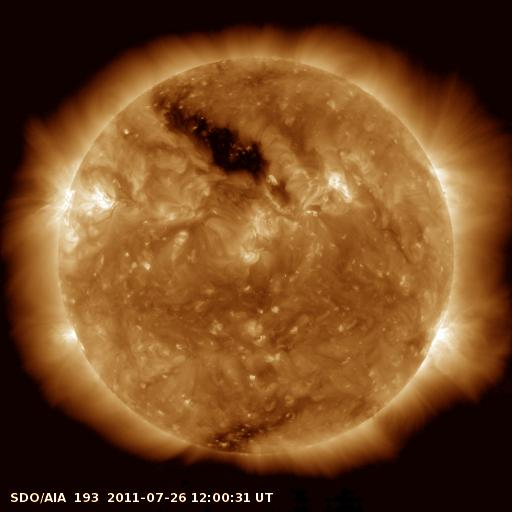coronal_hole: (156, 91, 269, 182), (205, 415, 288, 458)
